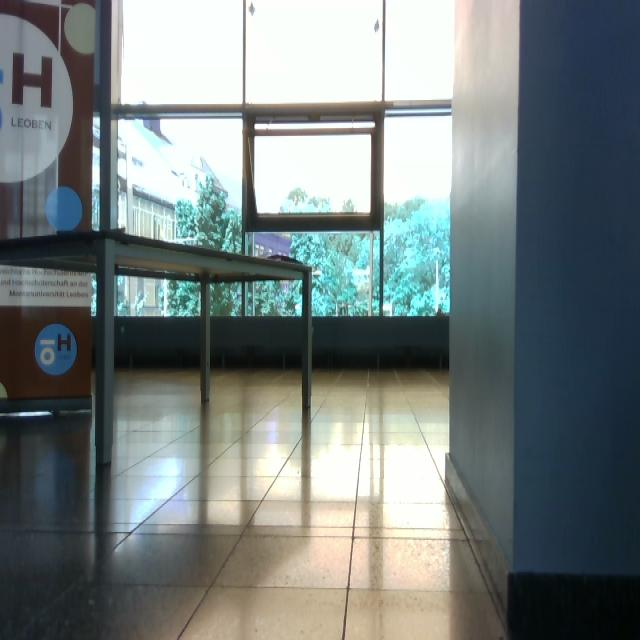light bulb: (46, 185, 84, 233), (64, 4, 97, 57), (248, 1, 255, 17), (312, 269, 323, 277)
table: (2, 228, 317, 472)
tiled floor: (1, 365, 509, 638)
window: (96, 1, 455, 321)
